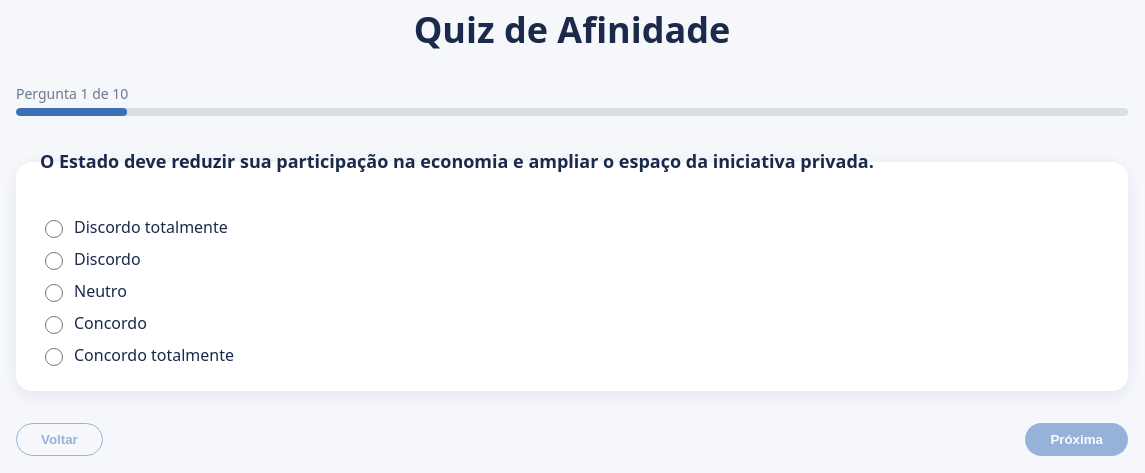
Test: QuizQuestionsPage › disables "Voltar" on the first question and gates "Próxima" until answered (Req 10.5)
The image size is (1145, 473).
Check: the button "Voltar" is disabled, box x1=16 y1=423 x2=103 y2=456
Check: the button "Próxima" is disabled, box x1=1025 y1=423 x2=1128 y2=456
// Selecting an option records the answer in context and enables advancing.
Click the radio button labelled "Concordo": (54, 325) x1=45 y1=316 x2=63 y2=334
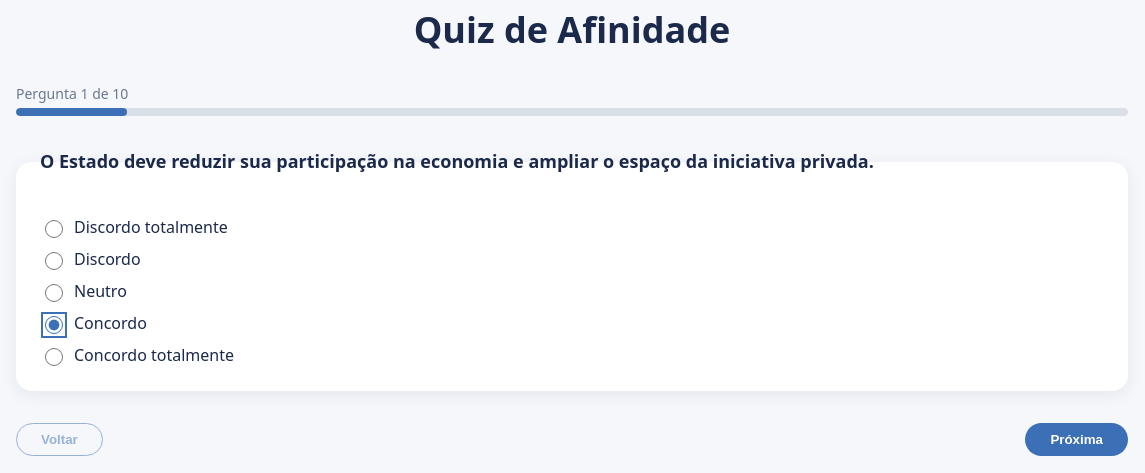
Check: the button "Próxima" is enabled, box x1=1025 y1=423 x2=1128 y2=456
